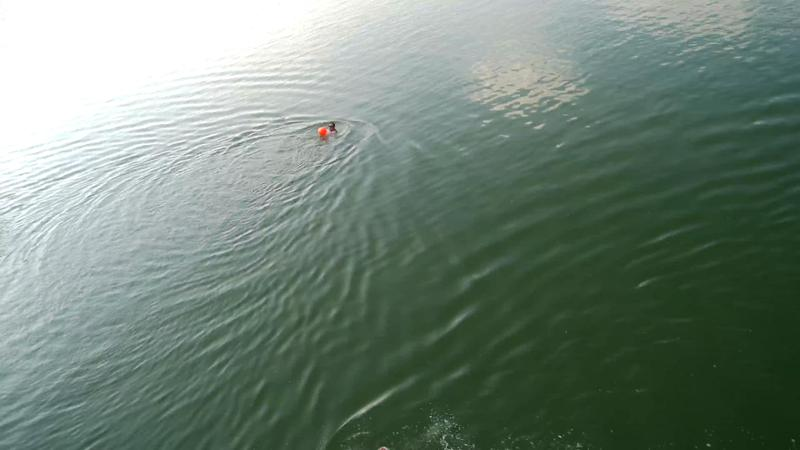swimmers: (318, 121, 338, 137)
